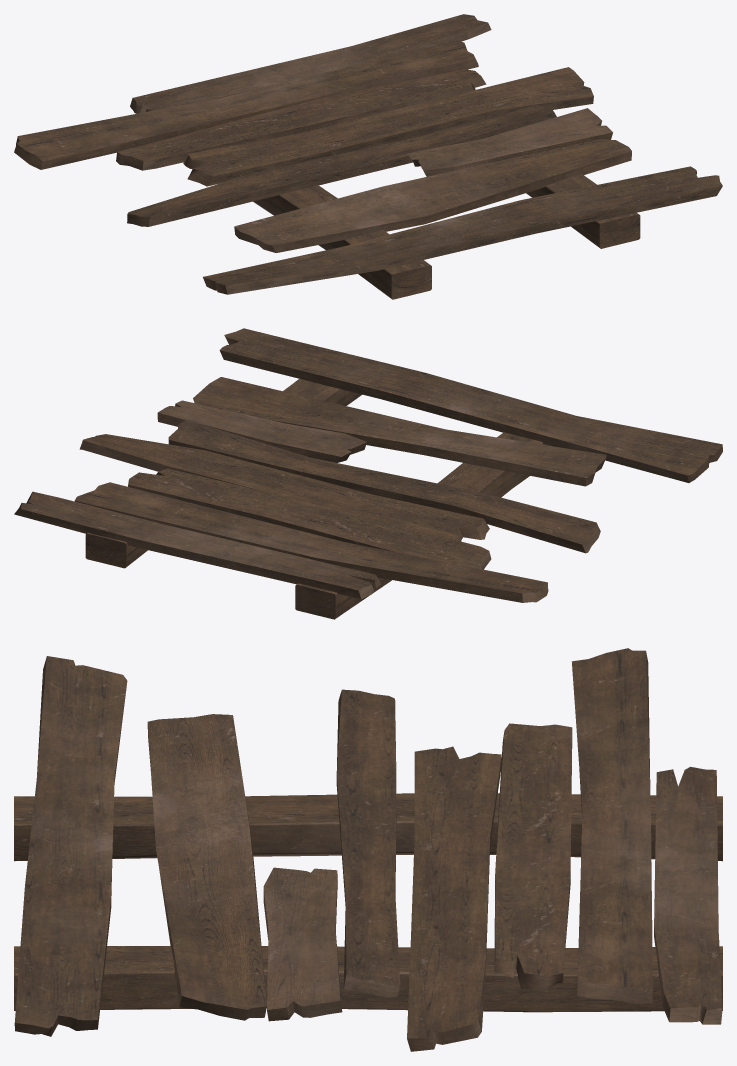
File: SM_Wooden_Floor_Ruined_01.fbx
3 views of the same model, one above another, from view 1: azimuth 30°, elevation 25°; view 2: azimuth 150°, elevation 25°; view 3: azimuth 270°, elevation 25° (orthographic). The views are drawn at different scales.
Visible parts, largest first — view 1: SM_Wooden_Floor_Ruined_01_LOD0; view 2: SM_Wooden_Floor_Ruined_01_LOD0; view 3: SM_Wooden_Floor_Ruined_01_LOD0.
Boxes of the visible parts, bbox=[...] form: SM_Wooden_Floor_Ruined_01_LOD0: bbox=[14, 14, 722, 299]; SM_Wooden_Floor_Ruined_01_LOD0: bbox=[14, 328, 722, 619]; SM_Wooden_Floor_Ruined_01_LOD0: bbox=[14, 648, 722, 1051].
Size of what is drawn, in the model's own units: 488 by 42.14 by 400.
